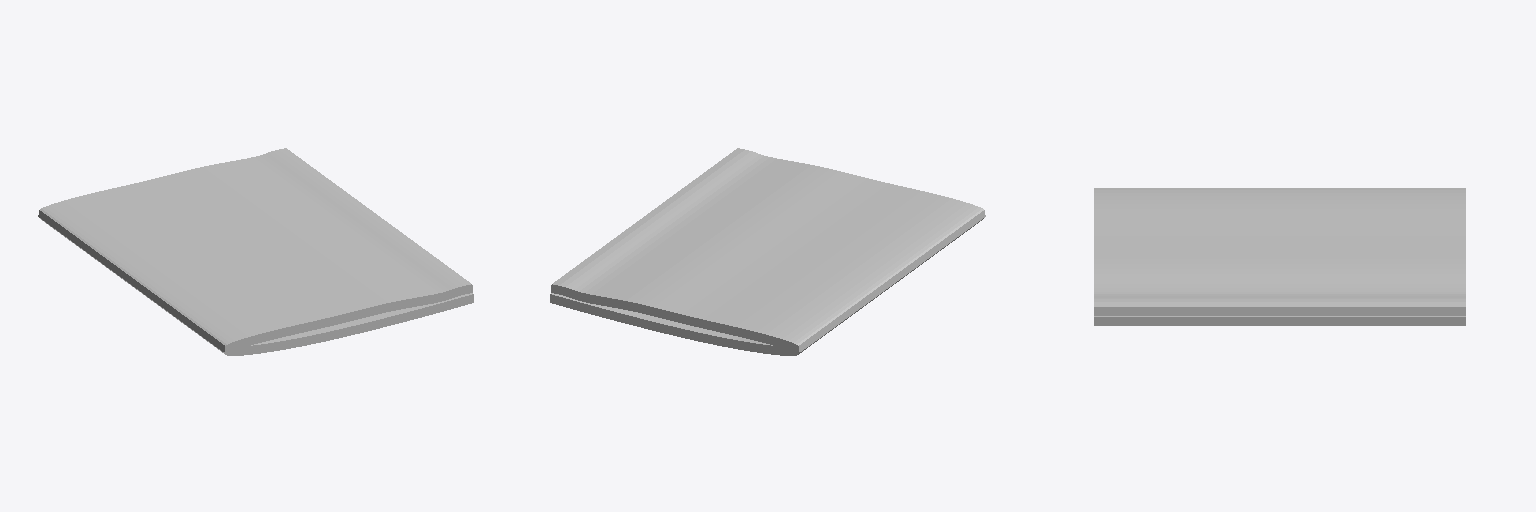
Rendered from Magazine_Closed_Thick_Fixed.obj.
3 views of the same model, side by side, from view 1: azimuth 30°, elevation 25°; view 2: azimuth 150°, elevation 25°; view 3: azimuth 270°, elevation 25° (orthographic).
Parts seen in each view (by area): view 1: Magazine_Closed_Thick; view 2: Magazine_Closed_Thick; view 3: Magazine_Closed_Thick.
Boxes of the visible parts, <box> form: Magazine_Closed_Thick: <box>38,148,473,355</box>; Magazine_Closed_Thick: <box>550,148,985,355</box>; Magazine_Closed_Thick: <box>1094,188,1465,325</box>.
Size of the model in its own units: 3.3 by 0.3028 by 4.27.